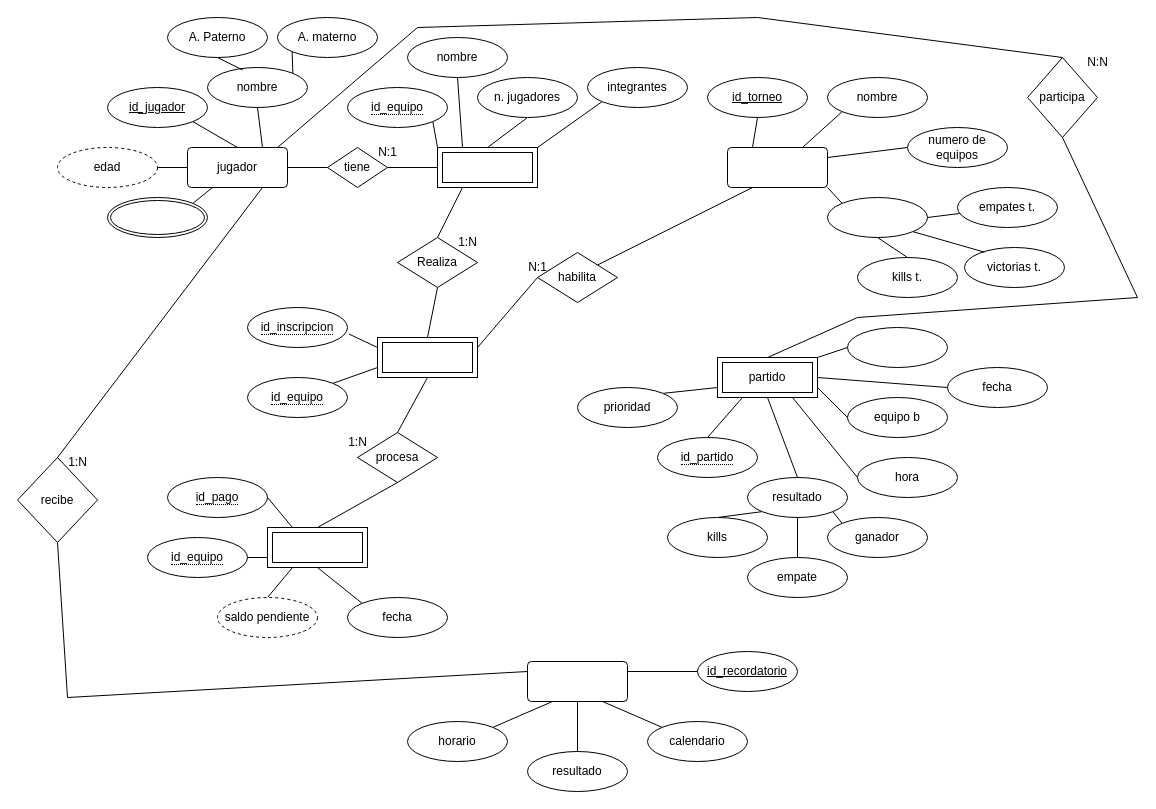
Some shapes in this 1156 by 809 pixel diagram are drawn without their labels. The centre of each missing label's shape, as x and y in pixels:
"equipo" goes at point 487,167.
"equipo a" goes at point 897,347.
"inscripcion" goes at point 427,357.
"pago" goes at point 317,547.
"recordatorio" goes at point 577,681.
"Registro" goes at point 877,217.
"rol" goes at point 157,217.
"torneo" goes at point 777,167.
